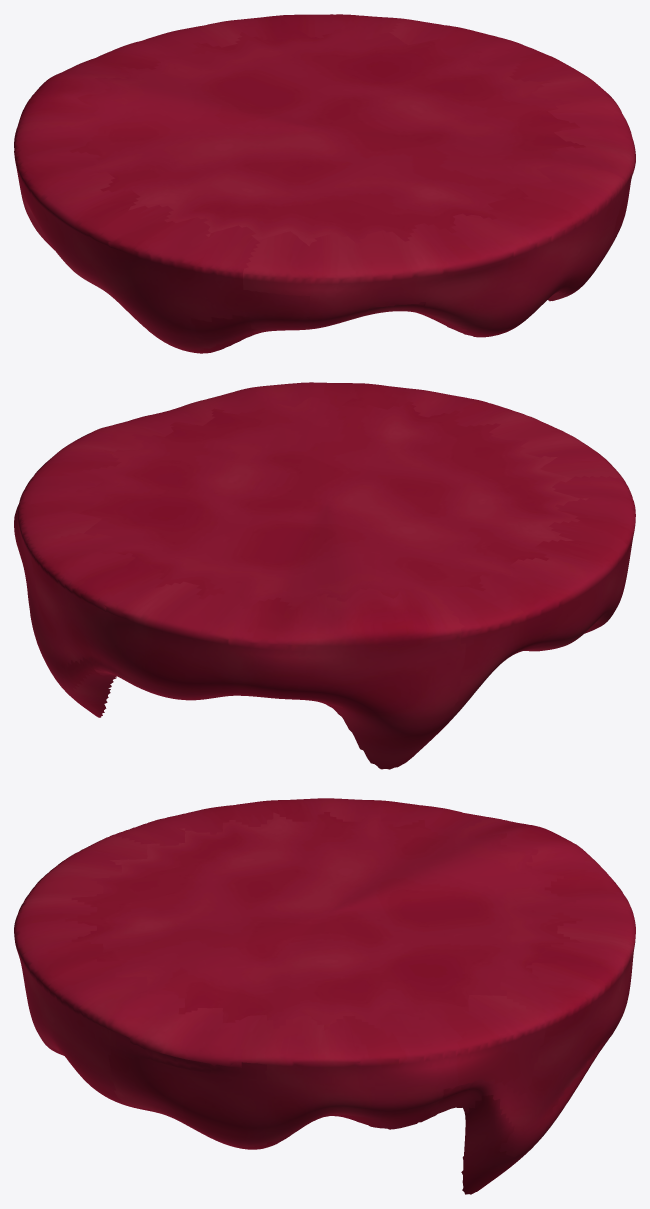
The model's file is PostreSweetHelp_Mermelada_mora.glb.
3 renders of one model, top to bottom at view 1: azimuth 30°, elevation 25°; view 2: azimuth 150°, elevation 25°; view 3: azimuth 270°, elevation 25°, orthographic.
Visible parts, largest first — view 1: Cremaarriba; view 2: Cremaarriba; view 3: Cremaarriba.
Part boxes in pixels (<box>): Cremaarriba: <box>14,14,635,353</box>; Cremaarriba: <box>14,382,635,769</box>; Cremaarriba: <box>14,798,635,1194</box>.
Bounding box in the file's own units: 2.63 × 0.9738 × 2.64.
1 material, 1 textured.
